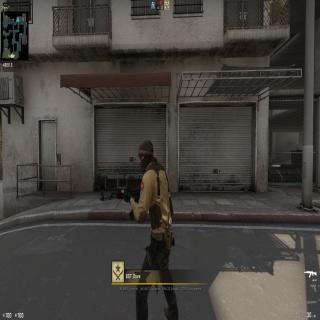T-Head: (137, 138, 157, 171)
